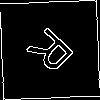R: (25, 25, 83, 83)
